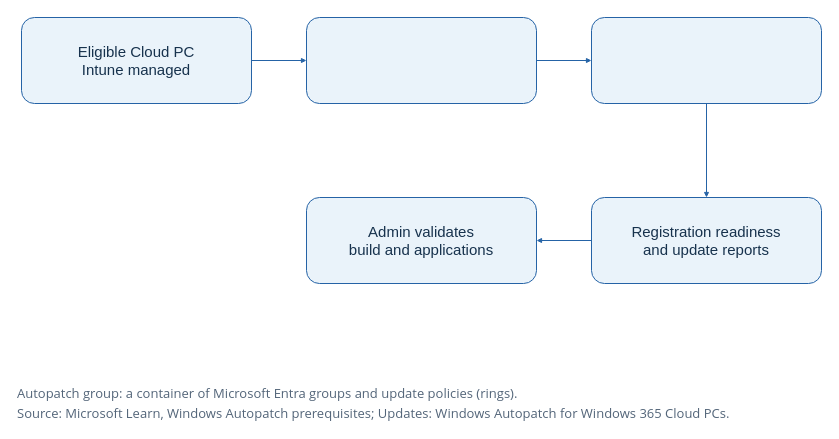
This 839x439 diagram has some shape labels left out. The shapes that lost their labels are listed below. From the top down, each one's centre as x and y in pixels, then its label:
the point at 421,60: Pilot device group scoped membership
the point at 706,60: Autopatch group ring and policies
